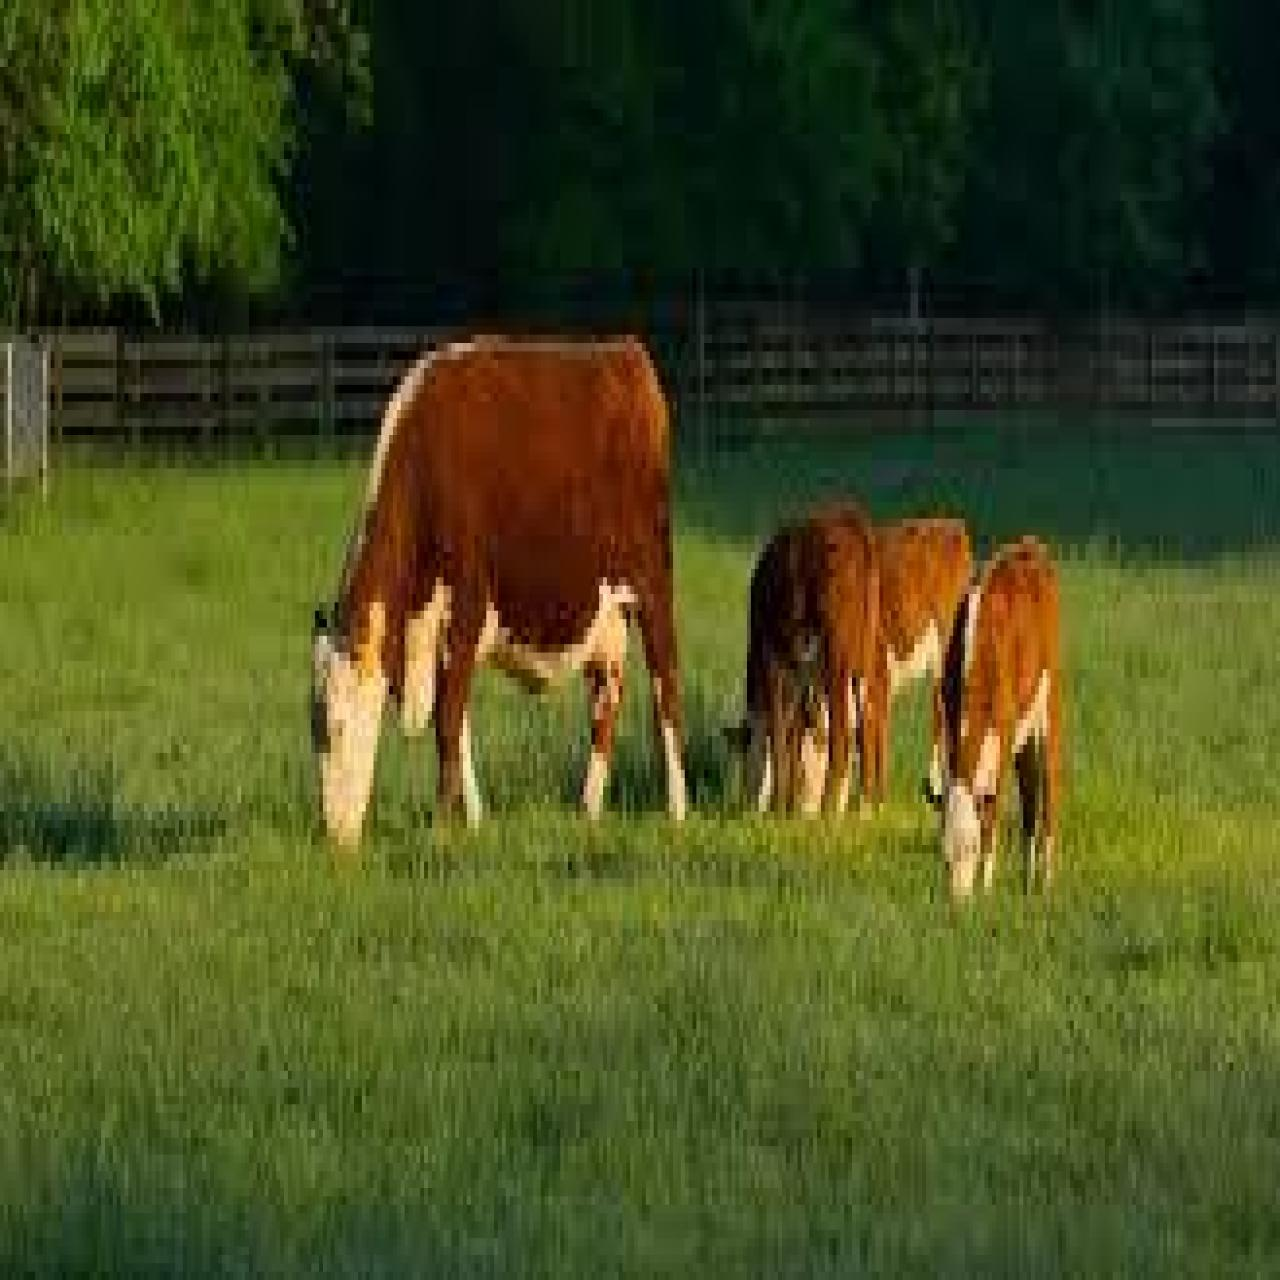cow: (313, 335, 687, 870), (803, 519, 979, 821), (926, 539, 1058, 917), (726, 506, 873, 816)
